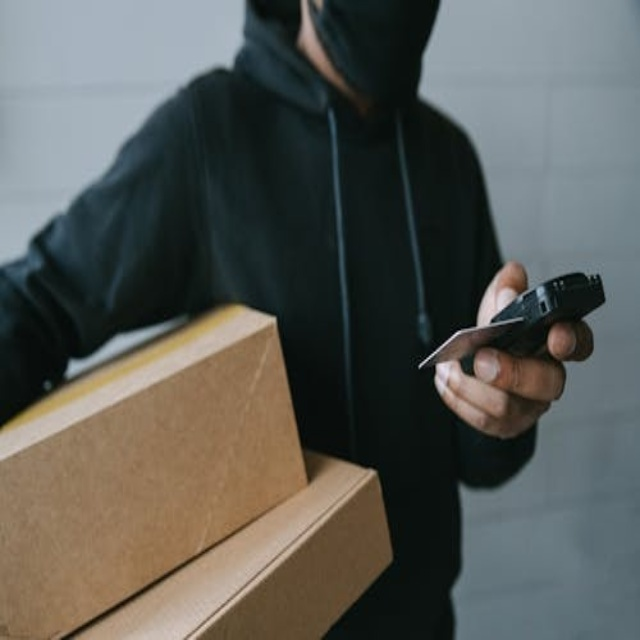Mascara: (306, 2, 442, 110)
Sin_guantes: (428, 258, 591, 441)
